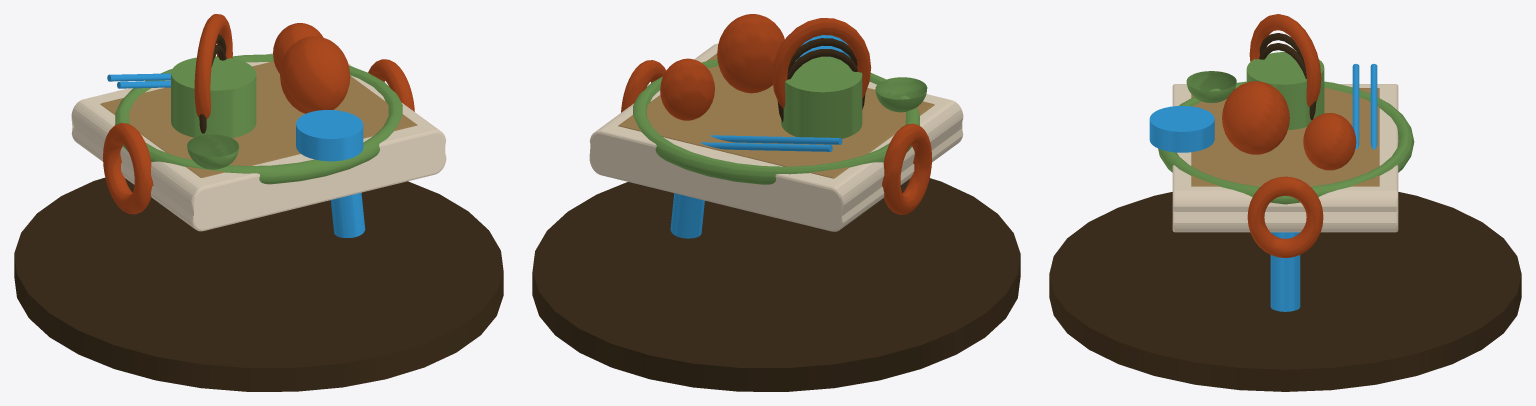
The model's file is 0912_秦汉图鉴_郢大府铜量.glb.
3 views of the same model, side by side, from view 1: azimuth 30°, elevation 25°; view 2: azimuth 150°, elevation 25°; view 3: azimuth 270°, elevation 25° (orthographic). The views are drawn at different scales.
Parts seen in each view (by area): view 1: card_0912; view 2: card_0912; view 3: card_0912.
Part boxes in pixels (x1,y1,x2,y2): card_0912: [14, 14, 503, 391]; card_0912: [532, 14, 1020, 391]; card_0912: [1049, 14, 1521, 391].
Size of the model in its own units: 1.57 by 1 by 1.65.
